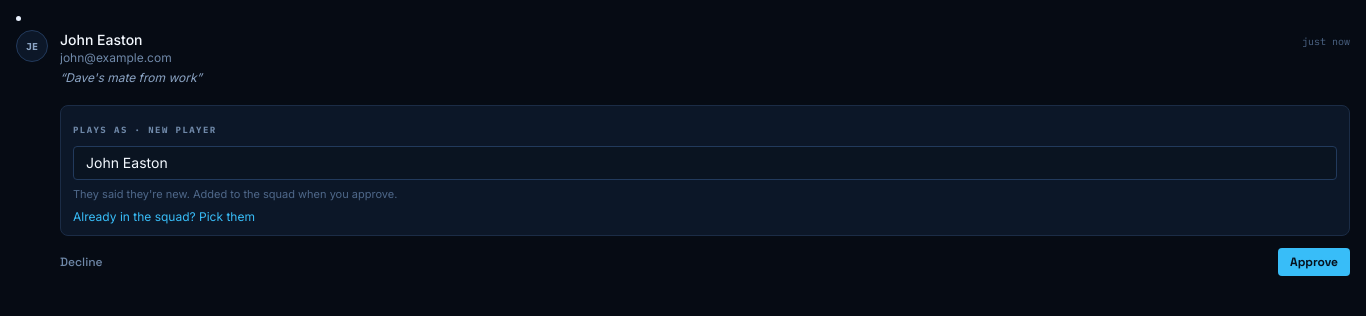
ReviewCard › shows the server message on a 409 and asks for a fresh roster
The image size is (1366, 316).
Click the button "Approve": (1314, 262) 1278,248 -> 1350,276
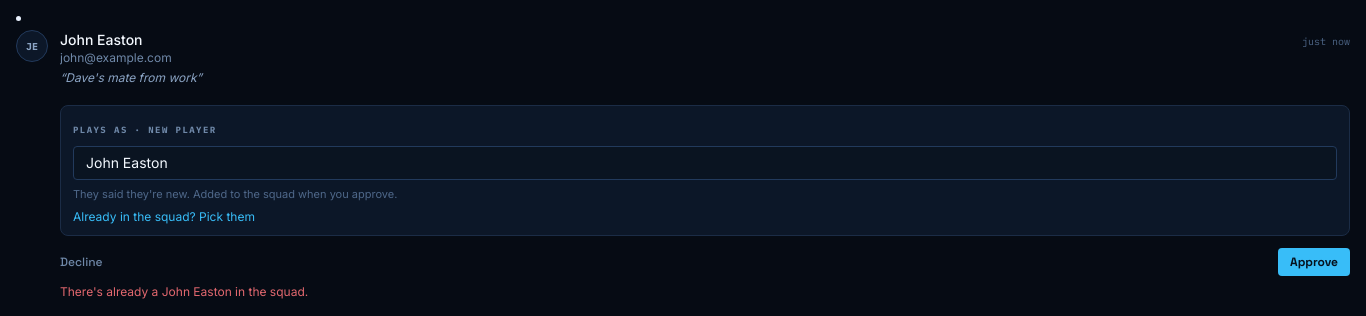
Now the text "There's already a John Easton in the squad." is shown, box 60,284 -> 308,298
